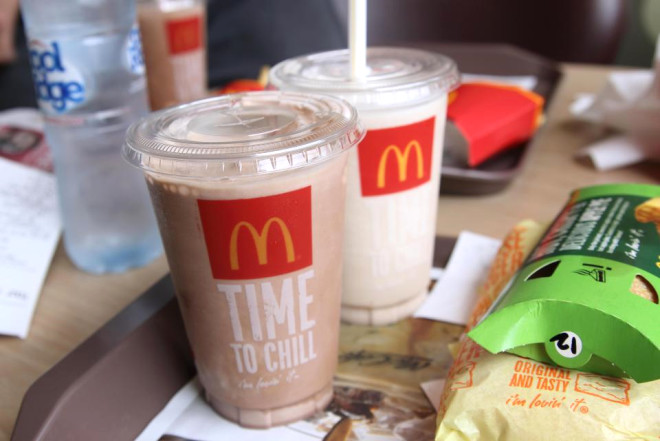mcdonalds: (221, 217, 303, 267), (374, 138, 427, 191)
